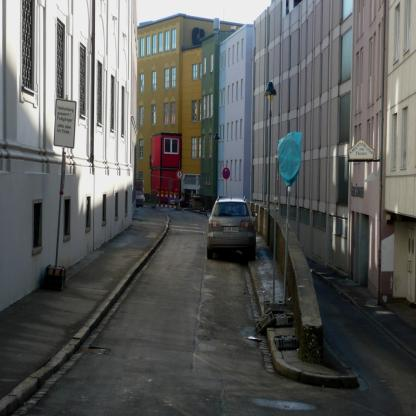Car: (208, 198, 258, 259)
